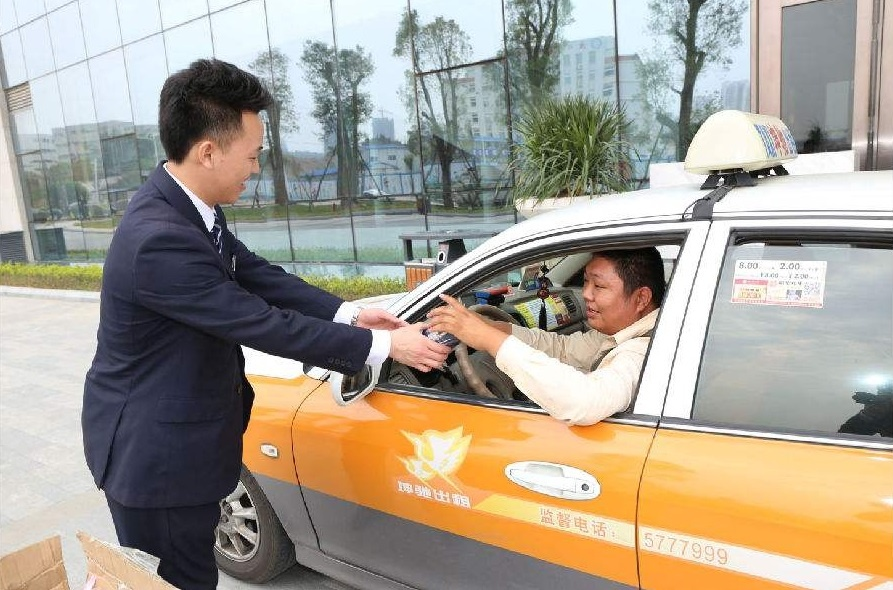taxi: (197, 201, 893, 588)
